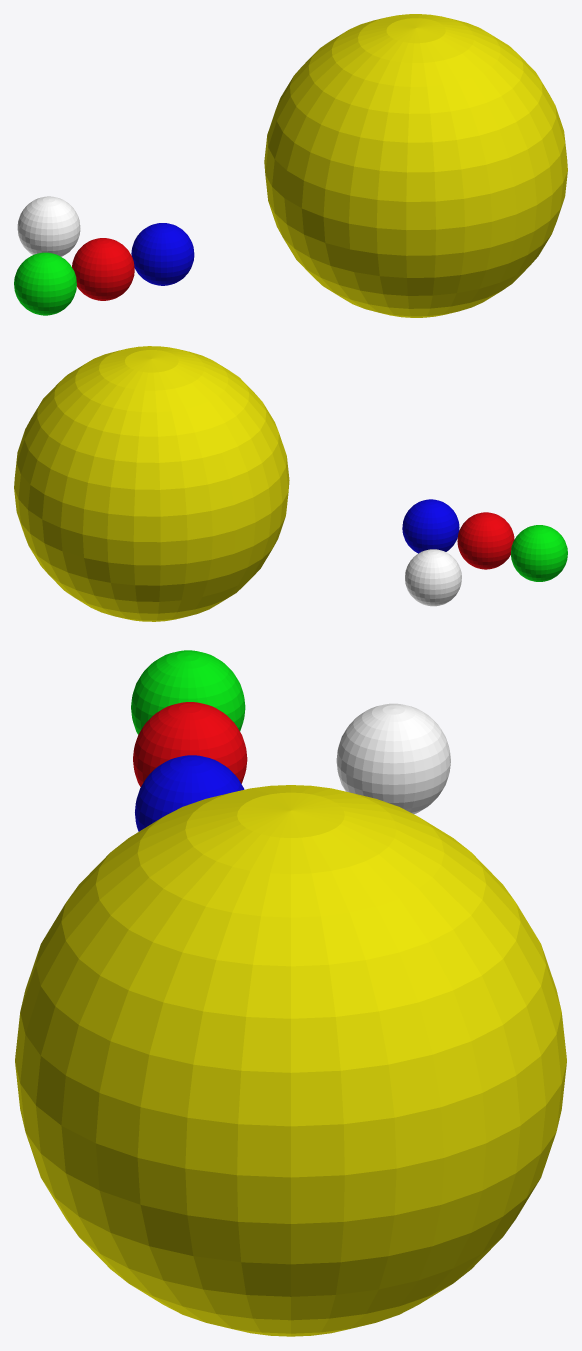
3 views of the same model, one above another, from view 1: azimuth 30°, elevation 25°; view 2: azimuth 150°, elevation 25°; view 3: azimuth 270°, elevation 25° (orthographic). The views are drawn at different scales.
Parts seen in each view (by area): view 1: Sphere, Child_1; view 2: Sphere, Child_1; view 3: Sphere, Child_1.
Boxes of the visible parts, <box> form: Sphere: <box>264,14,567,317</box>; Child_1: <box>14,196,194,315</box>; Sphere: <box>14,346,289,621</box>; Child_1: <box>402,499,567,606</box>; Sphere: <box>15,785,566,1336</box>; Child_1: <box>131,650,450,831</box>.
Bounding box in the file's own units: 20.42 × 9.64 × 9.64.
